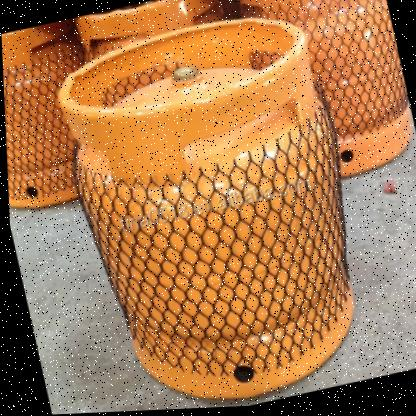gas-tank: (29, 0, 392, 414), (229, 0, 415, 214), (1, 16, 118, 229), (68, 0, 259, 86)
